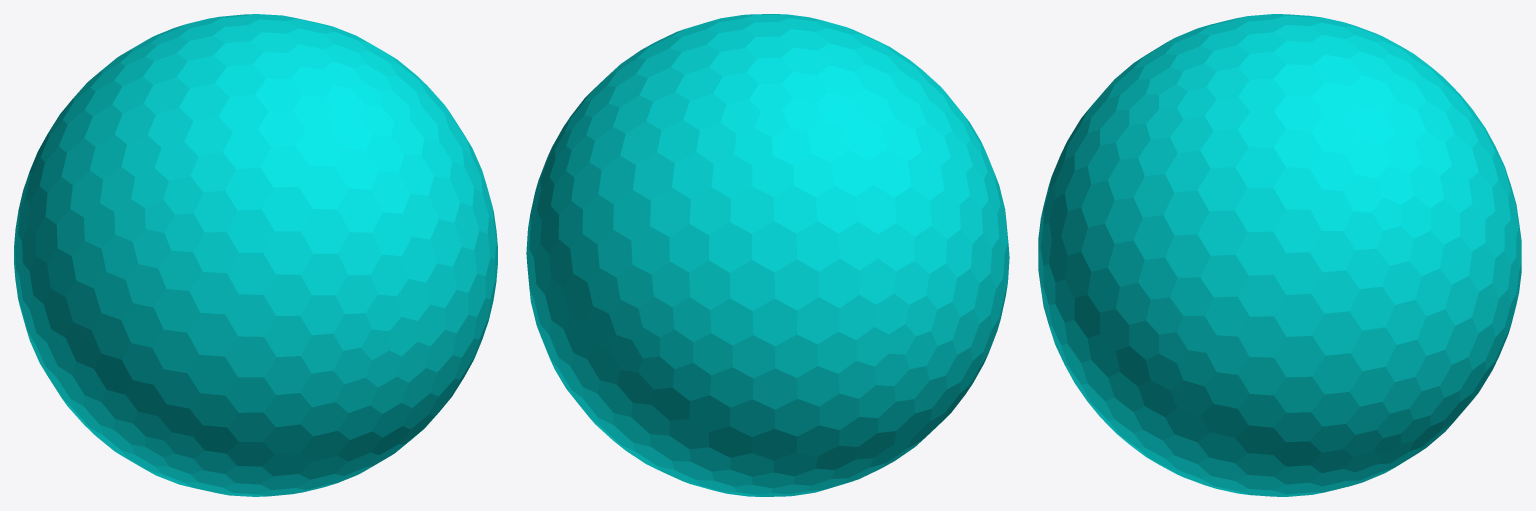
The model's file is Core Inner Variant 1.fbx.
3 renders of one model, left to right at view 1: azimuth 30°, elevation 25°; view 2: azimuth 150°, elevation 25°; view 3: azimuth 270°, elevation 25°, orthographic.
Visible parts, largest first — view 1: Core_Inner_Variant_1; view 2: Core_Inner_Variant_1; view 3: Core_Inner_Variant_1.
Boxes of the visible parts, left/top/right/bottom form: Core_Inner_Variant_1: left=14, top=14, right=497, bottom=496; Core_Inner_Variant_1: left=526, top=14, right=1009, bottom=496; Core_Inner_Variant_1: left=1038, top=14, right=1521, bottom=496.
Bounding box in the file's own units: 497 × 497 × 497.
